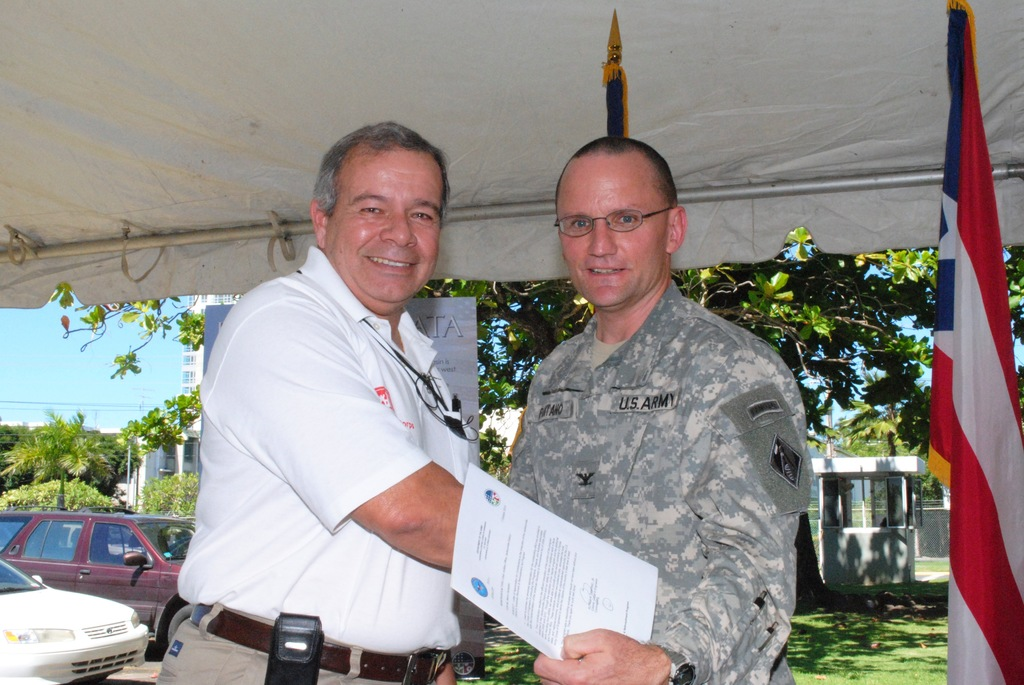Car: (0, 504, 193, 645), (0, 558, 149, 684)
